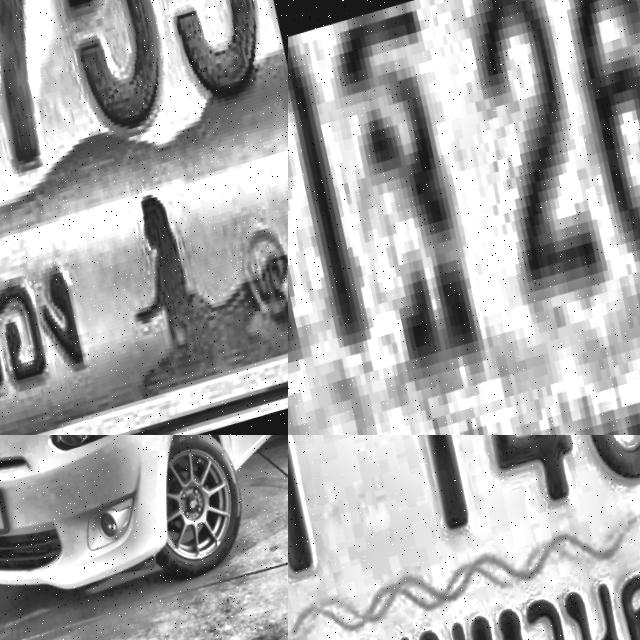license-plate: (288, 0, 640, 435), (0, 0, 288, 435), (288, 435, 640, 640), (0, 476, 16, 547)
